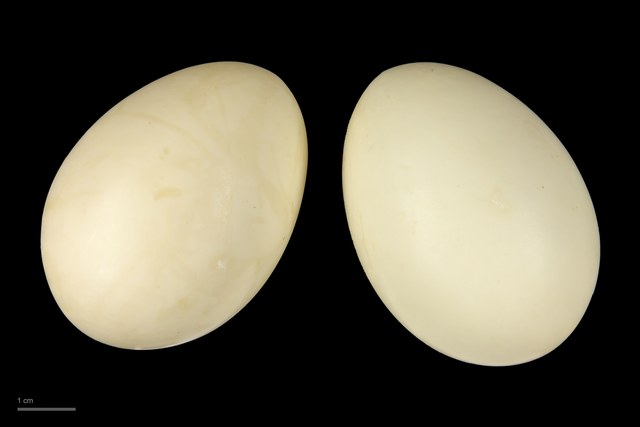Prestige Non-stick Fry Pan: (32, 21, 608, 406)
